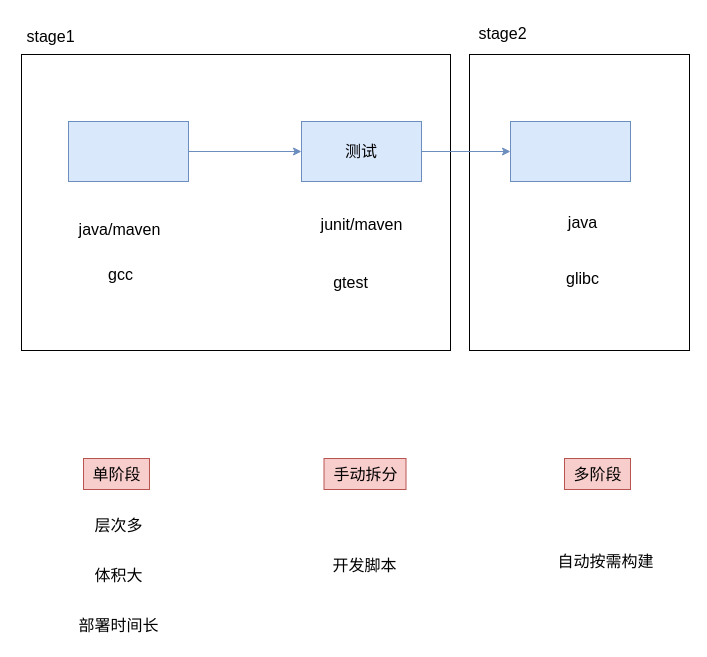
Some shapes in this 707 by 657 pixel diagram are drawn without their labels. Here are the shapes that lost their labels. From the top down, the box of each, then its label:
(68, 120, 188, 182): 编译
(510, 120, 630, 182): 打包运行
